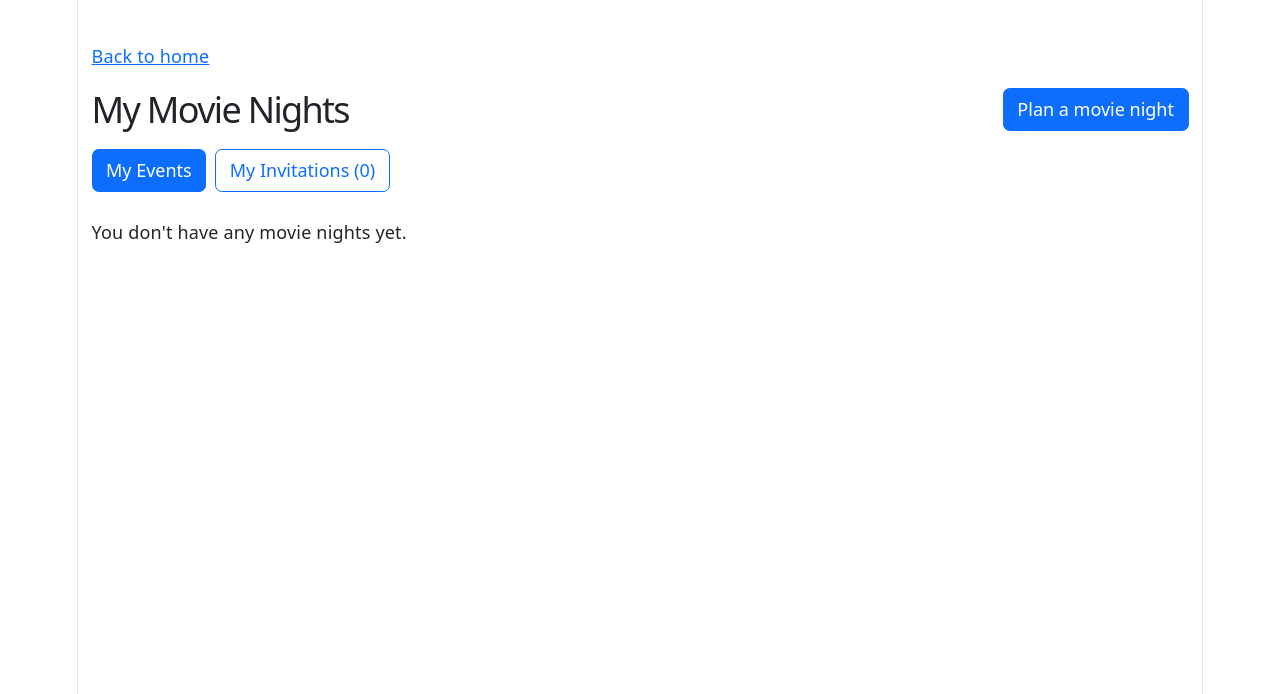
keeps the form on screen and associates local and server validation with fields
Click the button "Plan a movie night": (1096, 110) [1003,88,1188,131]
(page scrolled)
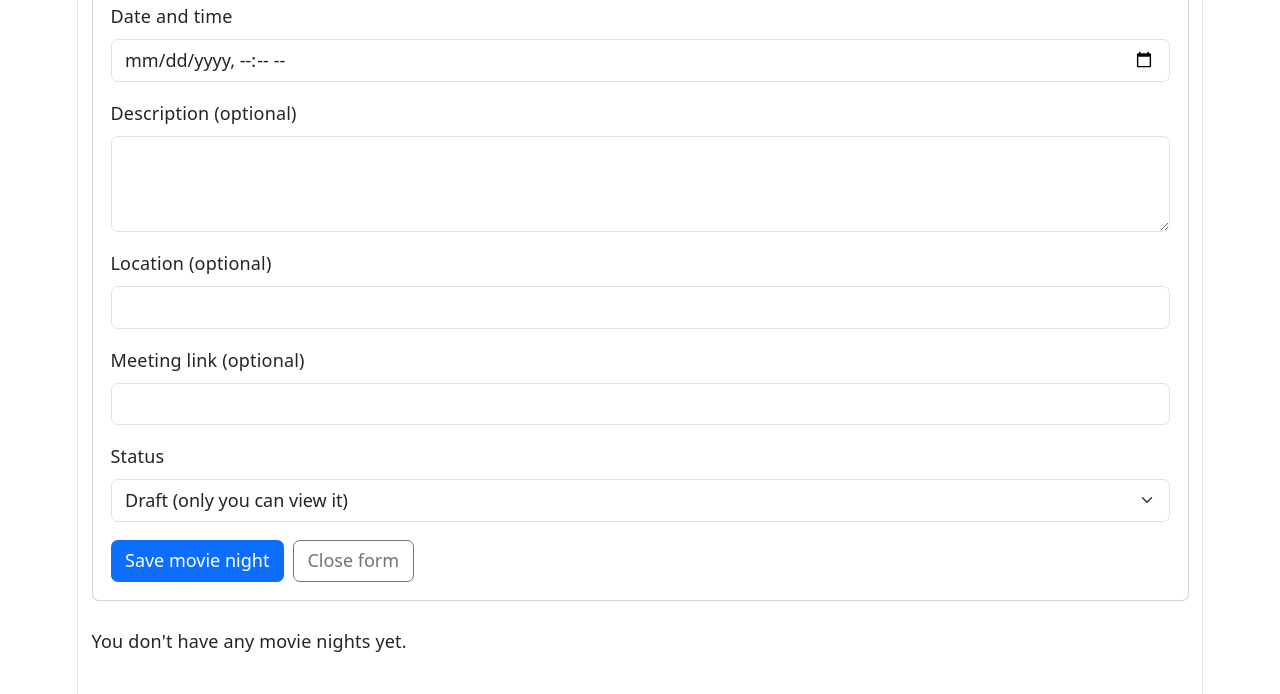
Click the button "Save movie night": (197, 561) [110,540,284,582]
(page scrolled)
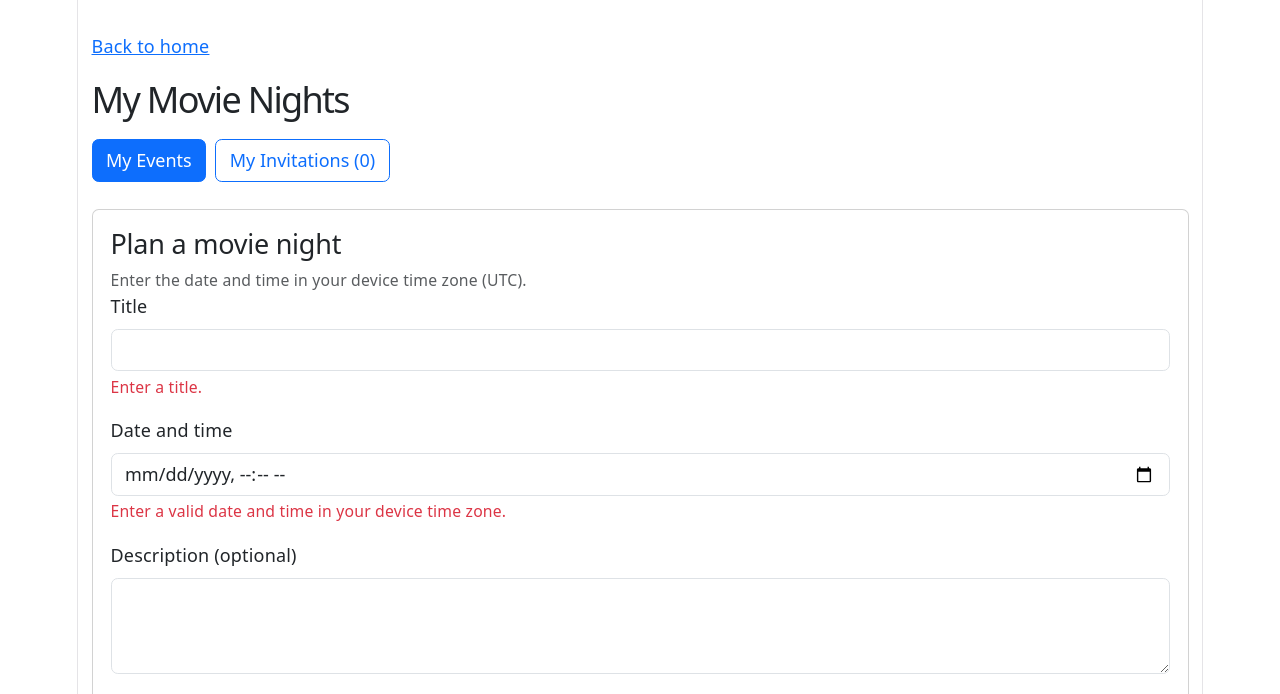
Check: the field labelled "Date and time" is marked as invalid, box [110,453,1170,496]
In the field labelled "Title": (640, 350) [110,329,1170,371], type "Draft title"
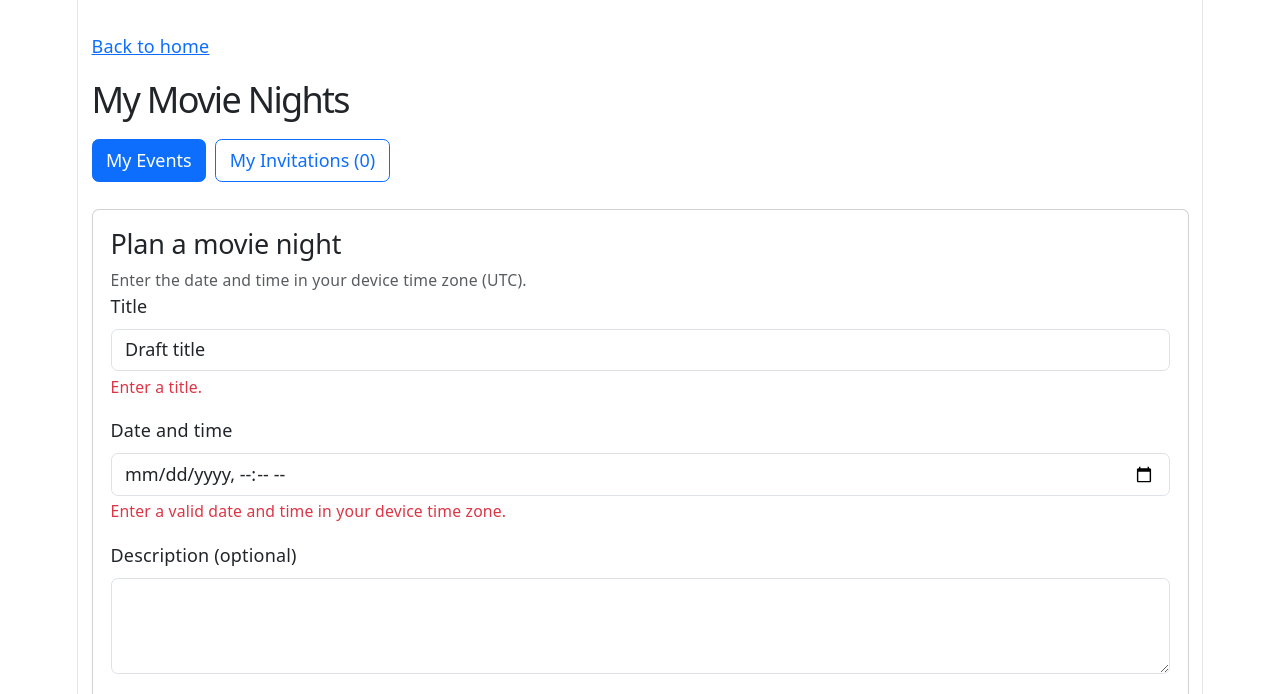
In the field labelled "Date and time": (640, 475) [110,453,1170,496], type "2099-12-30T20:45"
(page scrolled)
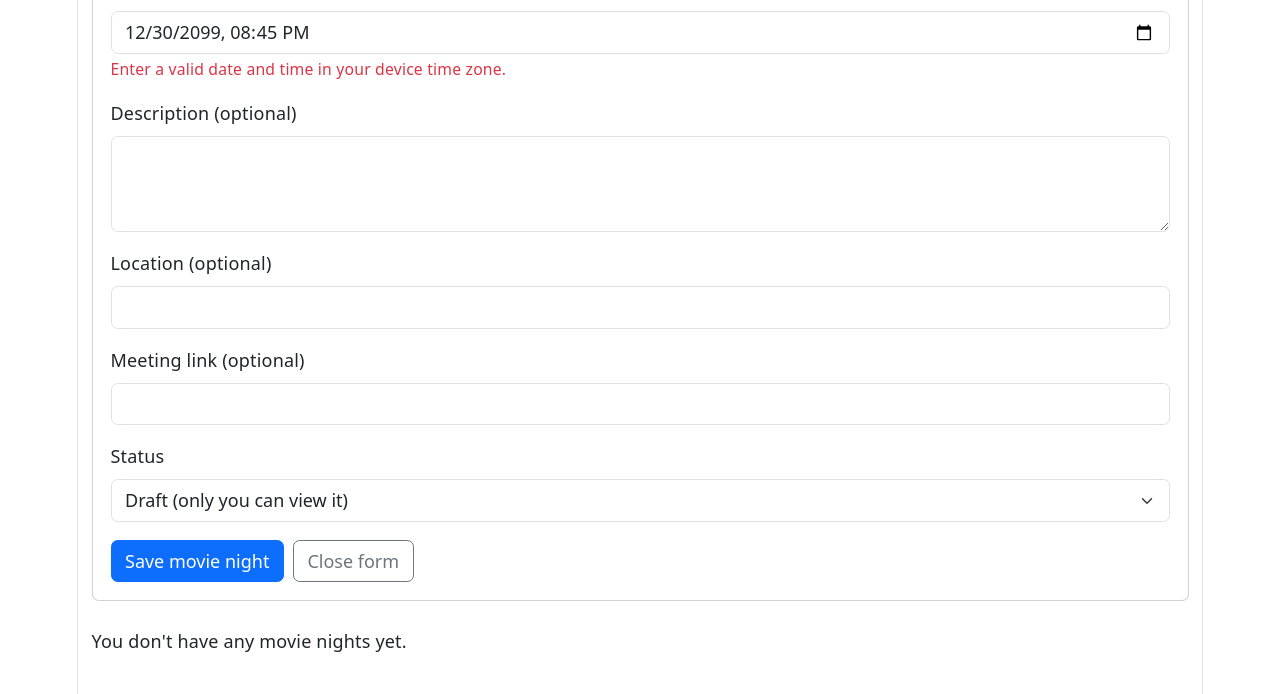
Click the button "Save movie night": (197, 561) [110,540,284,582]
(page scrolled)
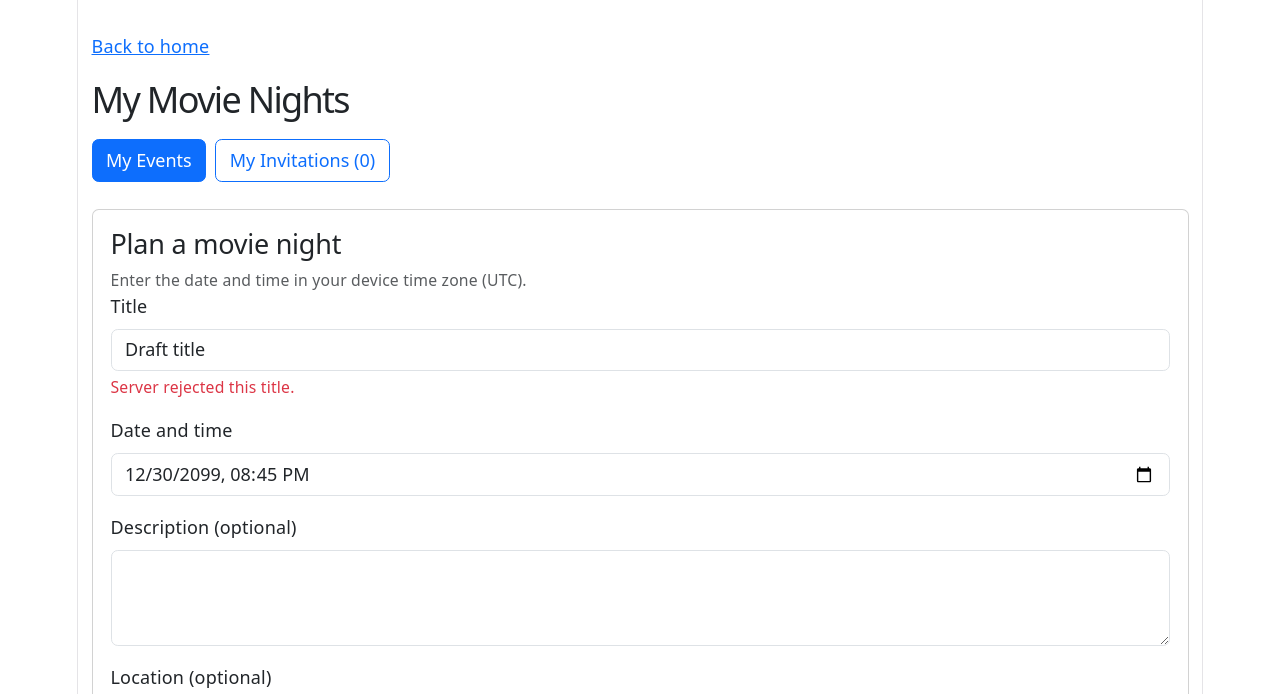
Check: the text "Server rejected this title." is shown, box [110,376,294,398]
